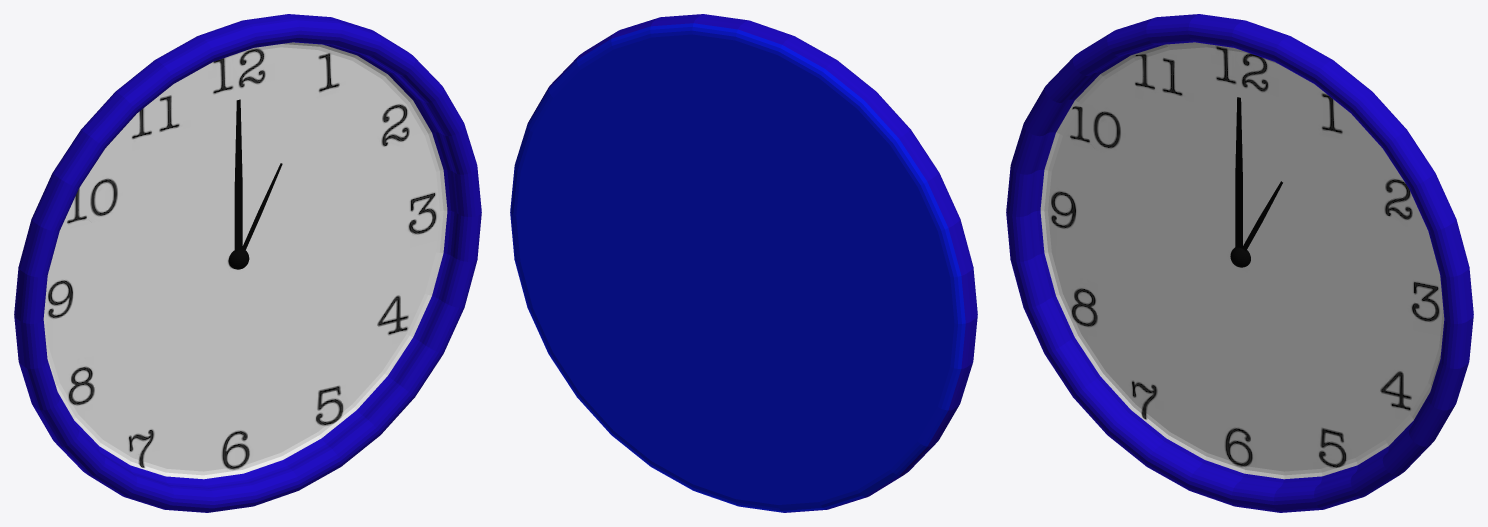
Rendered from zegar4.fbx.
The picture shows the model from 3 angles, left to right: view 1: azimuth 30°, elevation 25°; view 2: azimuth 150°, elevation 25°; view 3: azimuth 330°, elevation 25°; orthographic projection.
Parts seen in each view (by area): view 1: Cylinder; view 2: Cylinder; view 3: Cylinder.
Boxes of the visible parts, <box> form: Cylinder: <box>14,14,481,512</box>; Cylinder: <box>510,14,977,512</box>; Cylinder: <box>1006,14,1473,512</box>.
Size of the model in its own units: 200 by 200 by 12.94.
Materials: 4 (1 with a texture image).
